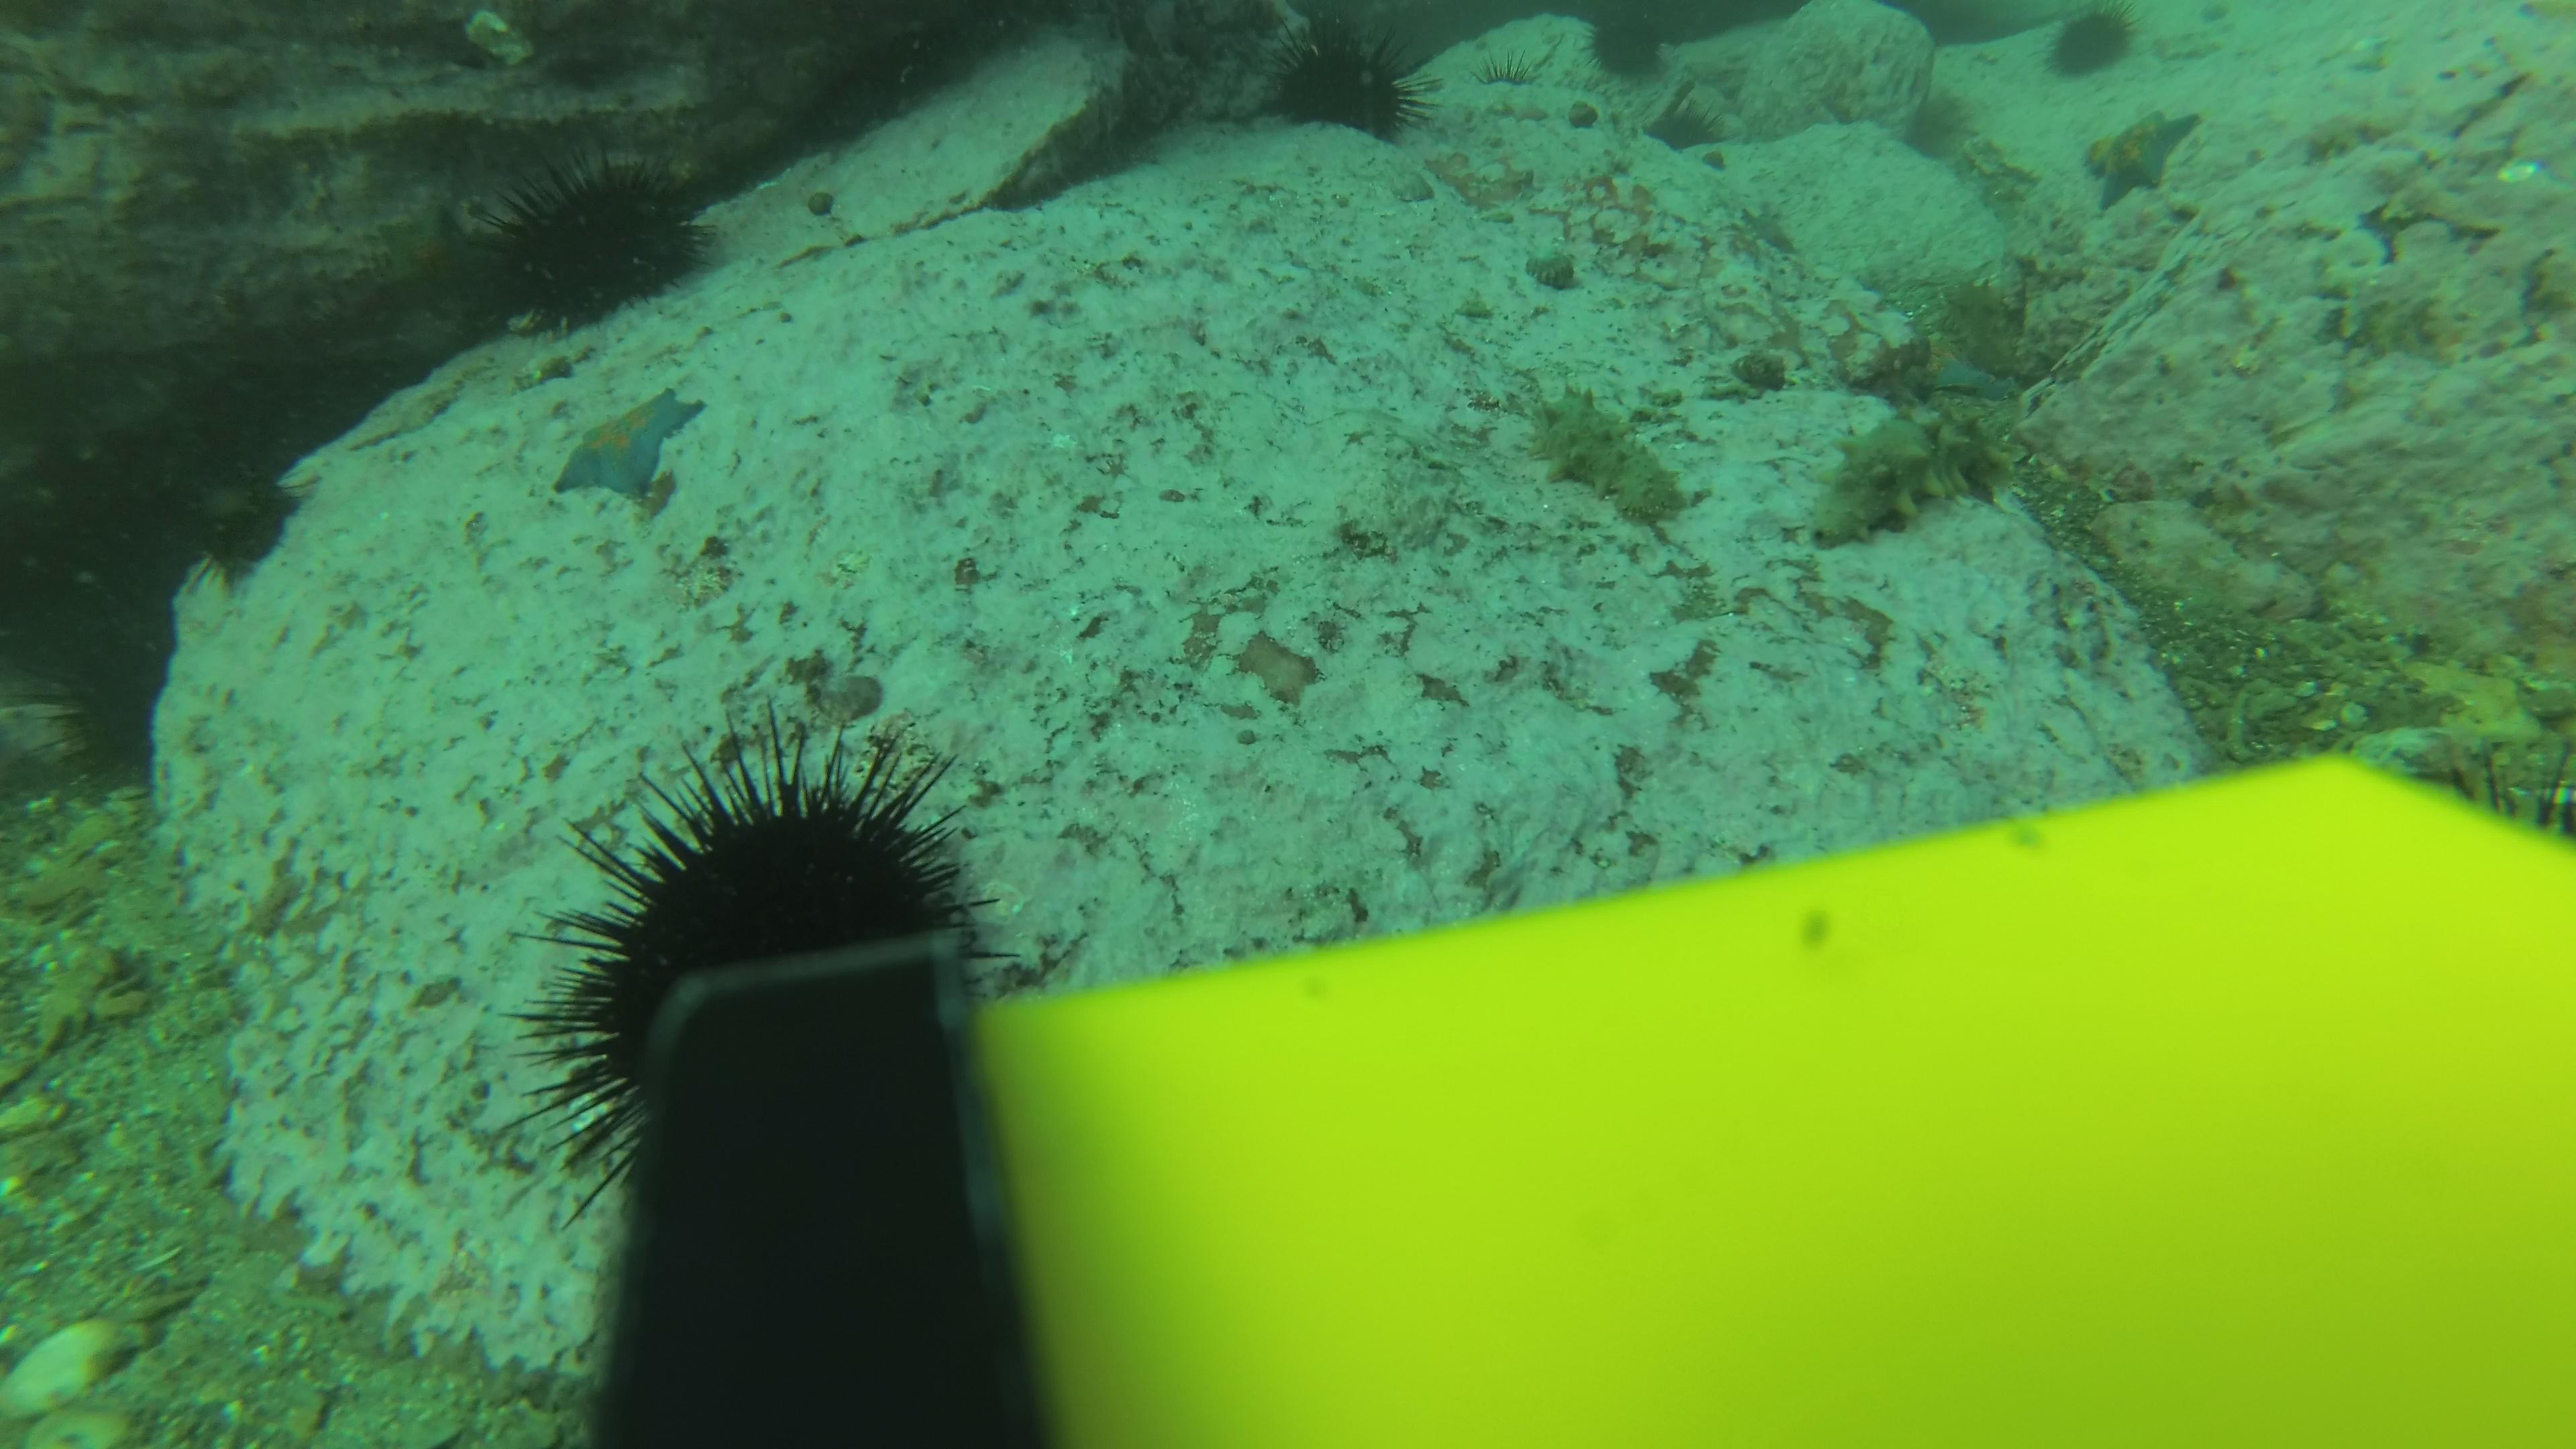urchin: (542, 718, 1006, 1195), (499, 160, 708, 323), (1258, 28, 1436, 146), (166, 466, 322, 581), (1580, 12, 1674, 95), (2037, 7, 2136, 85)
